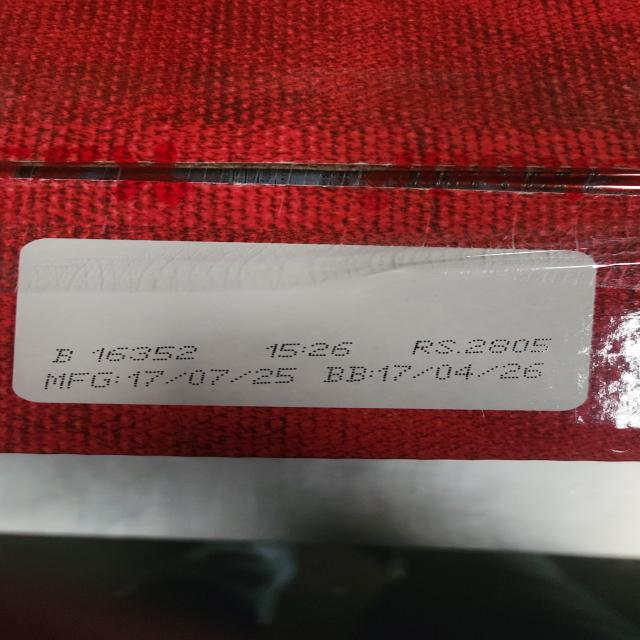BB: (323, 365, 561, 386)
Batch: (49, 341, 208, 366)
MFG: (41, 371, 306, 394)
RS: (413, 337, 562, 358)
TimeStamp: (262, 338, 364, 361)
